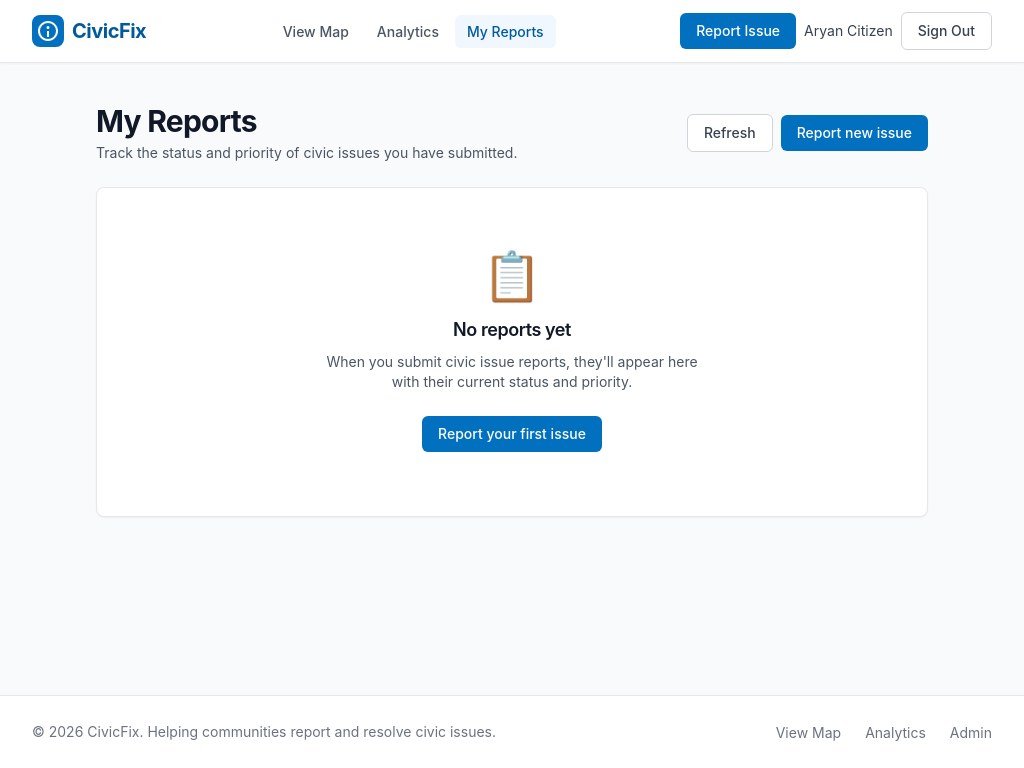
it: MyReportsPage › refreshes reports when the Refresh button is clicked
This screenshot has width=1024, height=768.
Expected: the heading "No reports yet" is shown, 453,316 -> 571,344
Click the button with aria-label "refresh my reports" at (730, 133), box 687,114 -> 773,152
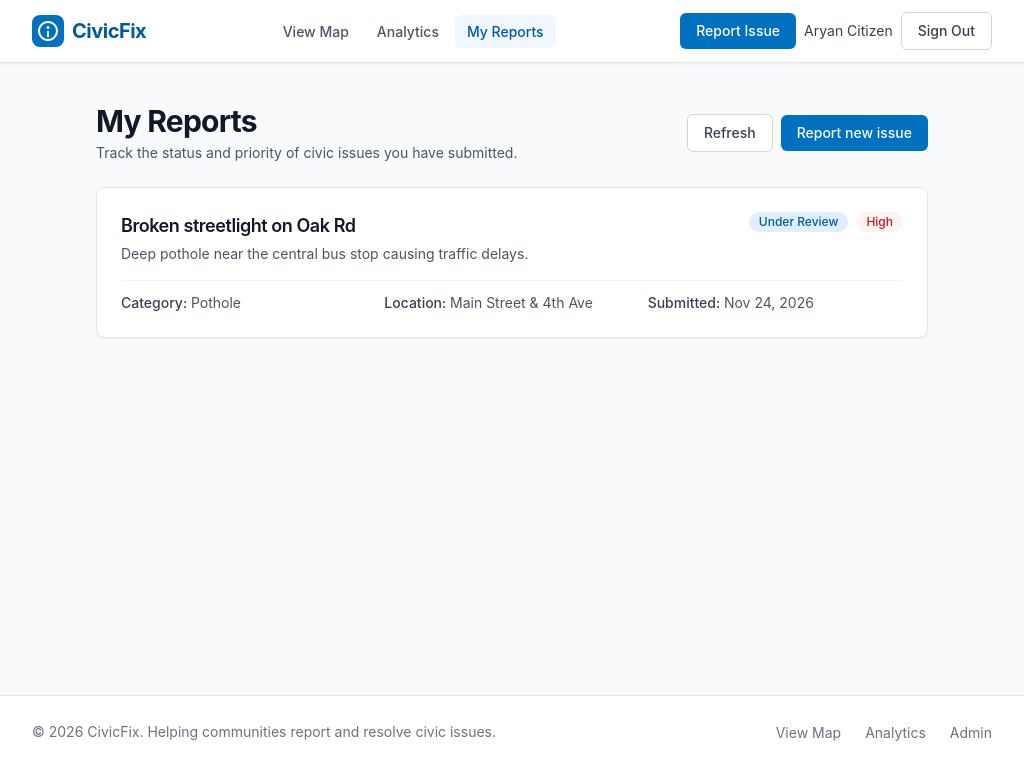
Now the heading "Broken streetlight on Oak Rd" is shown, box 121,215 -> 356,236
